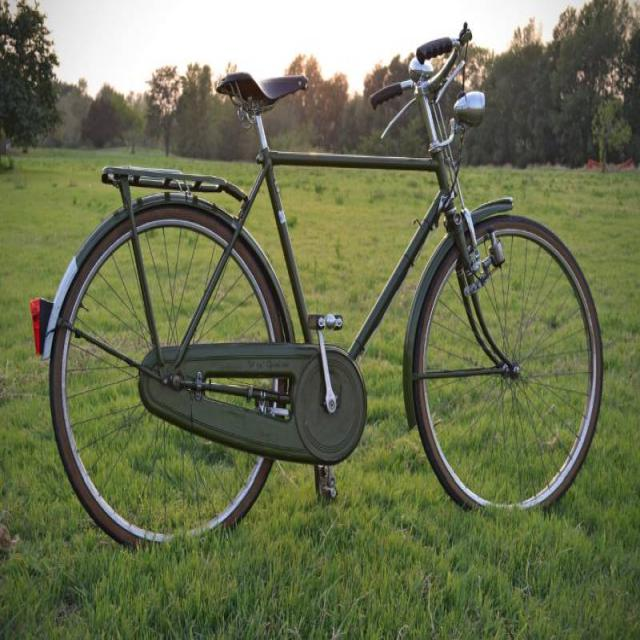bicycle: (99, 59, 591, 546)
tree: (4, 12, 79, 240), (569, 4, 640, 219), (498, 48, 567, 176), (143, 52, 187, 174), (76, 54, 116, 178)
